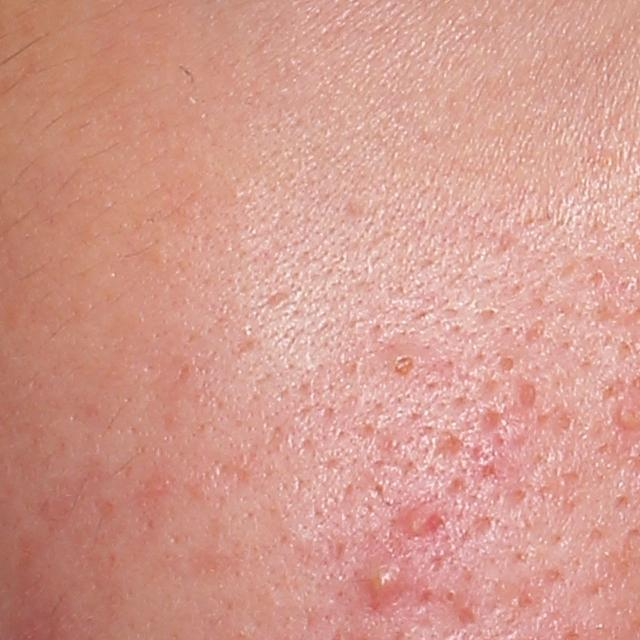comedo: (388, 352, 417, 382), (441, 589, 459, 606)
papule: (358, 557, 412, 603), (399, 502, 443, 534)
